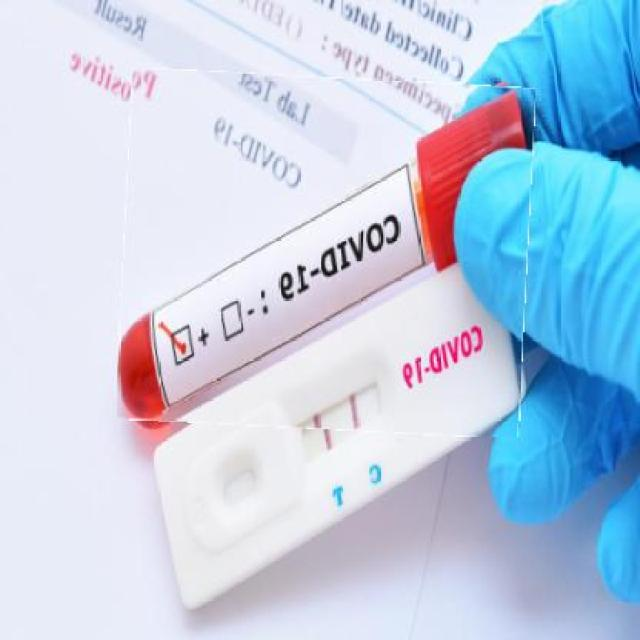Experimental-tube: (118, 74, 531, 434)
